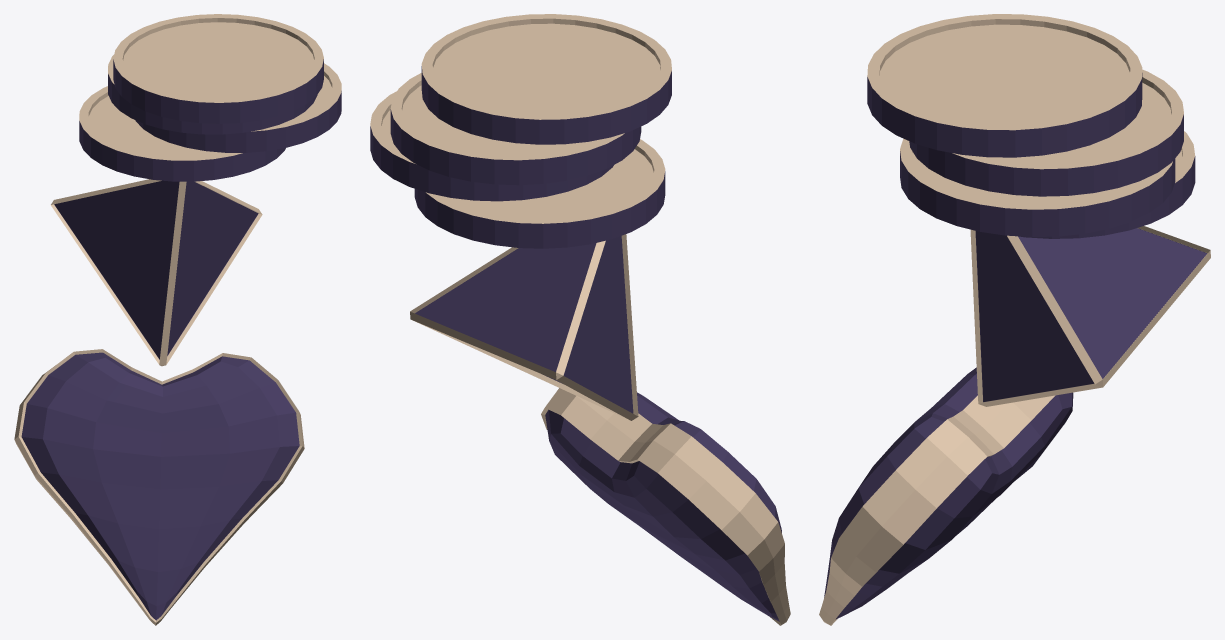
Rendered from playerNew_right.obj.
3 renders of one model, left to right at view 1: azimuth 30°, elevation 25°; view 2: azimuth 150°, elevation 25°; view 3: azimuth 270°, elevation 25°, orthographic. The views are drawn at different scales.
Parts seen in each view (by area): view 1: 立方体.010; view 2: 立方体.010; view 3: 立方体.010.
Boxes of the visible parts, x1,y1,x2,y2 form: 立方体.010: (14, 14, 341, 625); 立方体.010: (370, 14, 790, 625); 立方体.010: (819, 14, 1210, 625).
Bounding box in the file's own units: 0.649 × 0.9458 × 0.5277.
